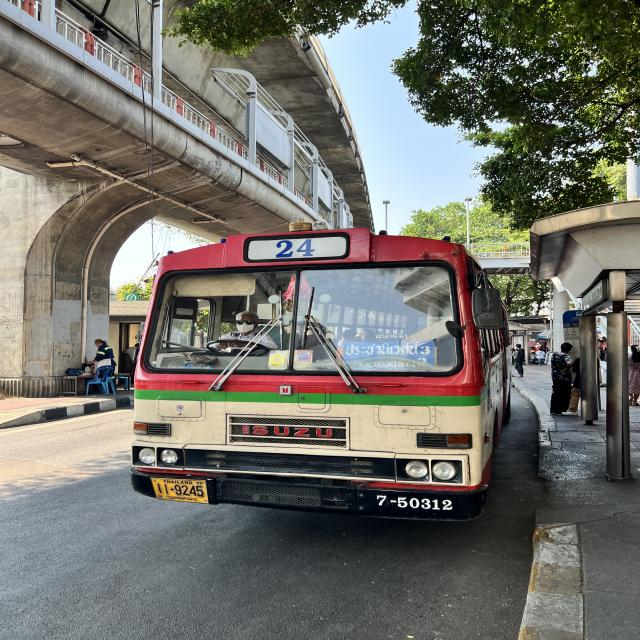BMTA-bus: (129, 228, 510, 524)
Bus-Line-Number: (243, 232, 353, 264)
Destination-Sign-Normal: (340, 342, 437, 371)
